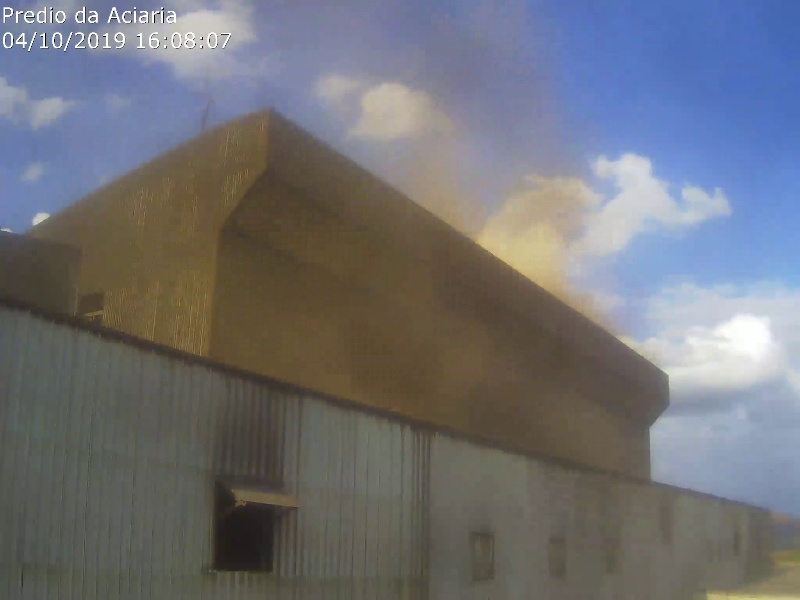pessimo: (287, 228, 623, 426)
ruim: (220, 8, 551, 232)
